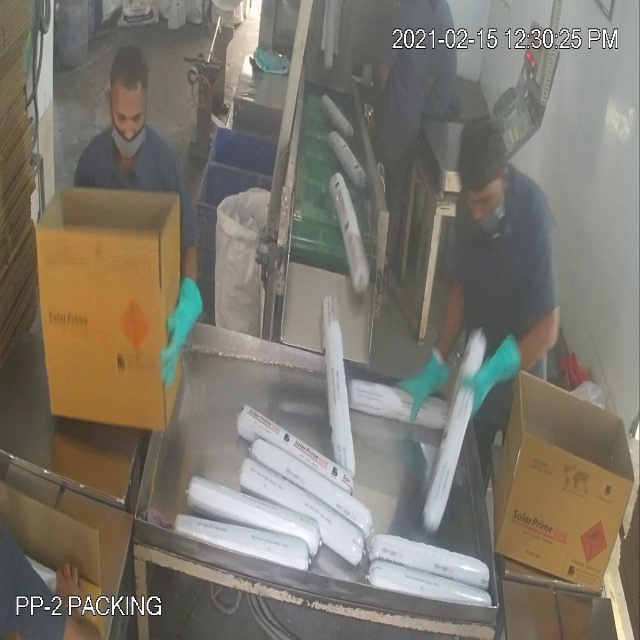Guantes: (152, 263, 214, 412), (454, 328, 532, 439), (384, 340, 455, 436)
